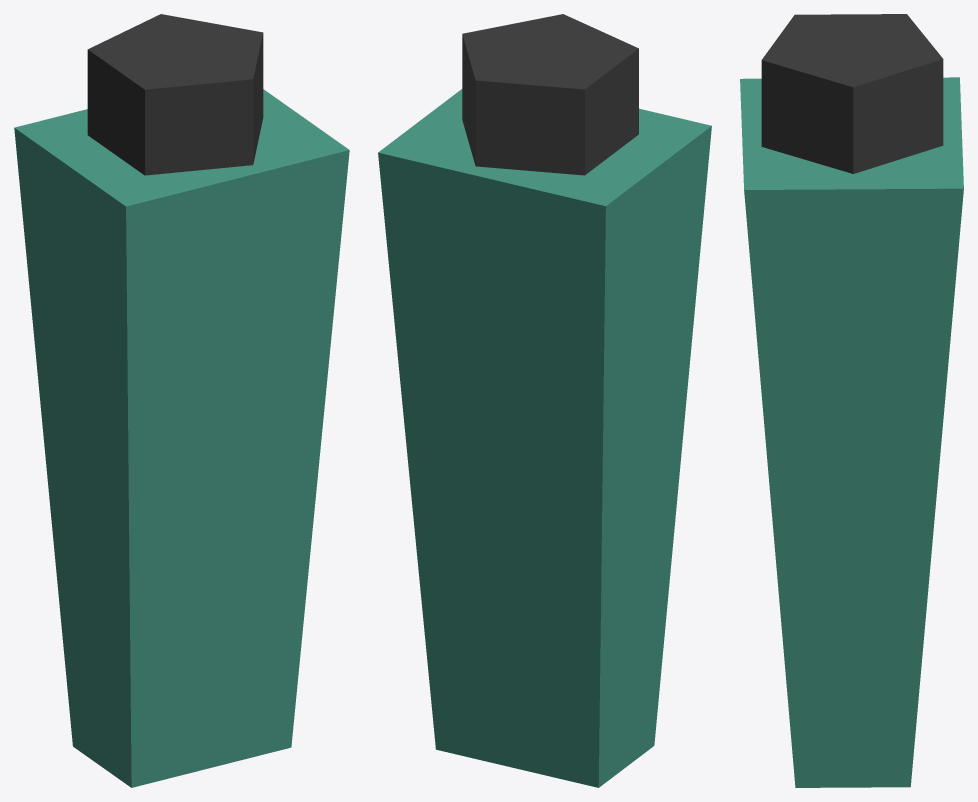
Rendered from vial_1.fbx.
3 renders of one model, left to right at view 1: azimuth 30°, elevation 25°; view 2: azimuth 150°, elevation 25°; view 3: azimuth 270°, elevation 25°, orthographic.
Visible parts, largest first — view 1: vial_1; view 2: vial_1; view 3: vial_1.
Part boxes in pixels (x1,y1,x2,y2): vial_1: (14,14,349,787); vial_1: (378,14,711,787); vial_1: (740,14,963,787).
Bounding box in the file's own units: 9.05 × 7.61 × 26.26.
